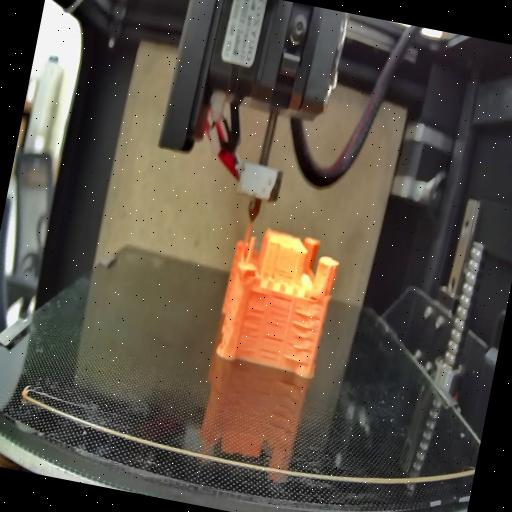cracks: (284, 310, 320, 366), (236, 306, 264, 353), (264, 294, 294, 330), (256, 332, 282, 364), (306, 292, 323, 304), (249, 288, 267, 298), (276, 268, 292, 279)
